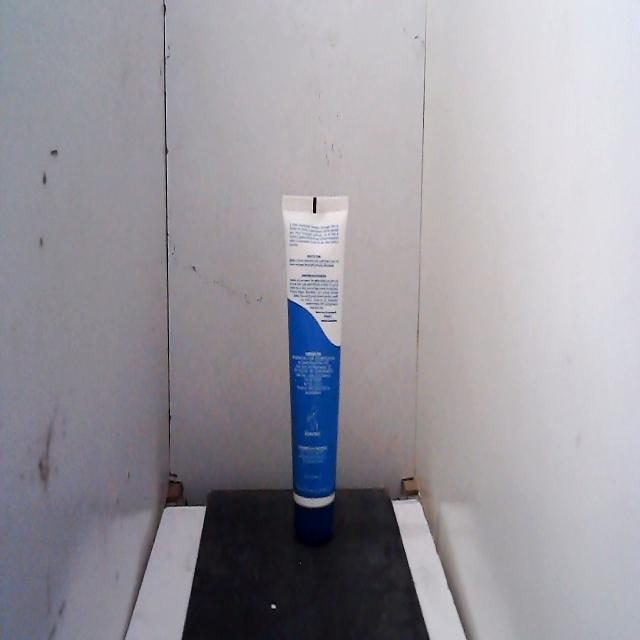plastic: (277, 186, 359, 546)
